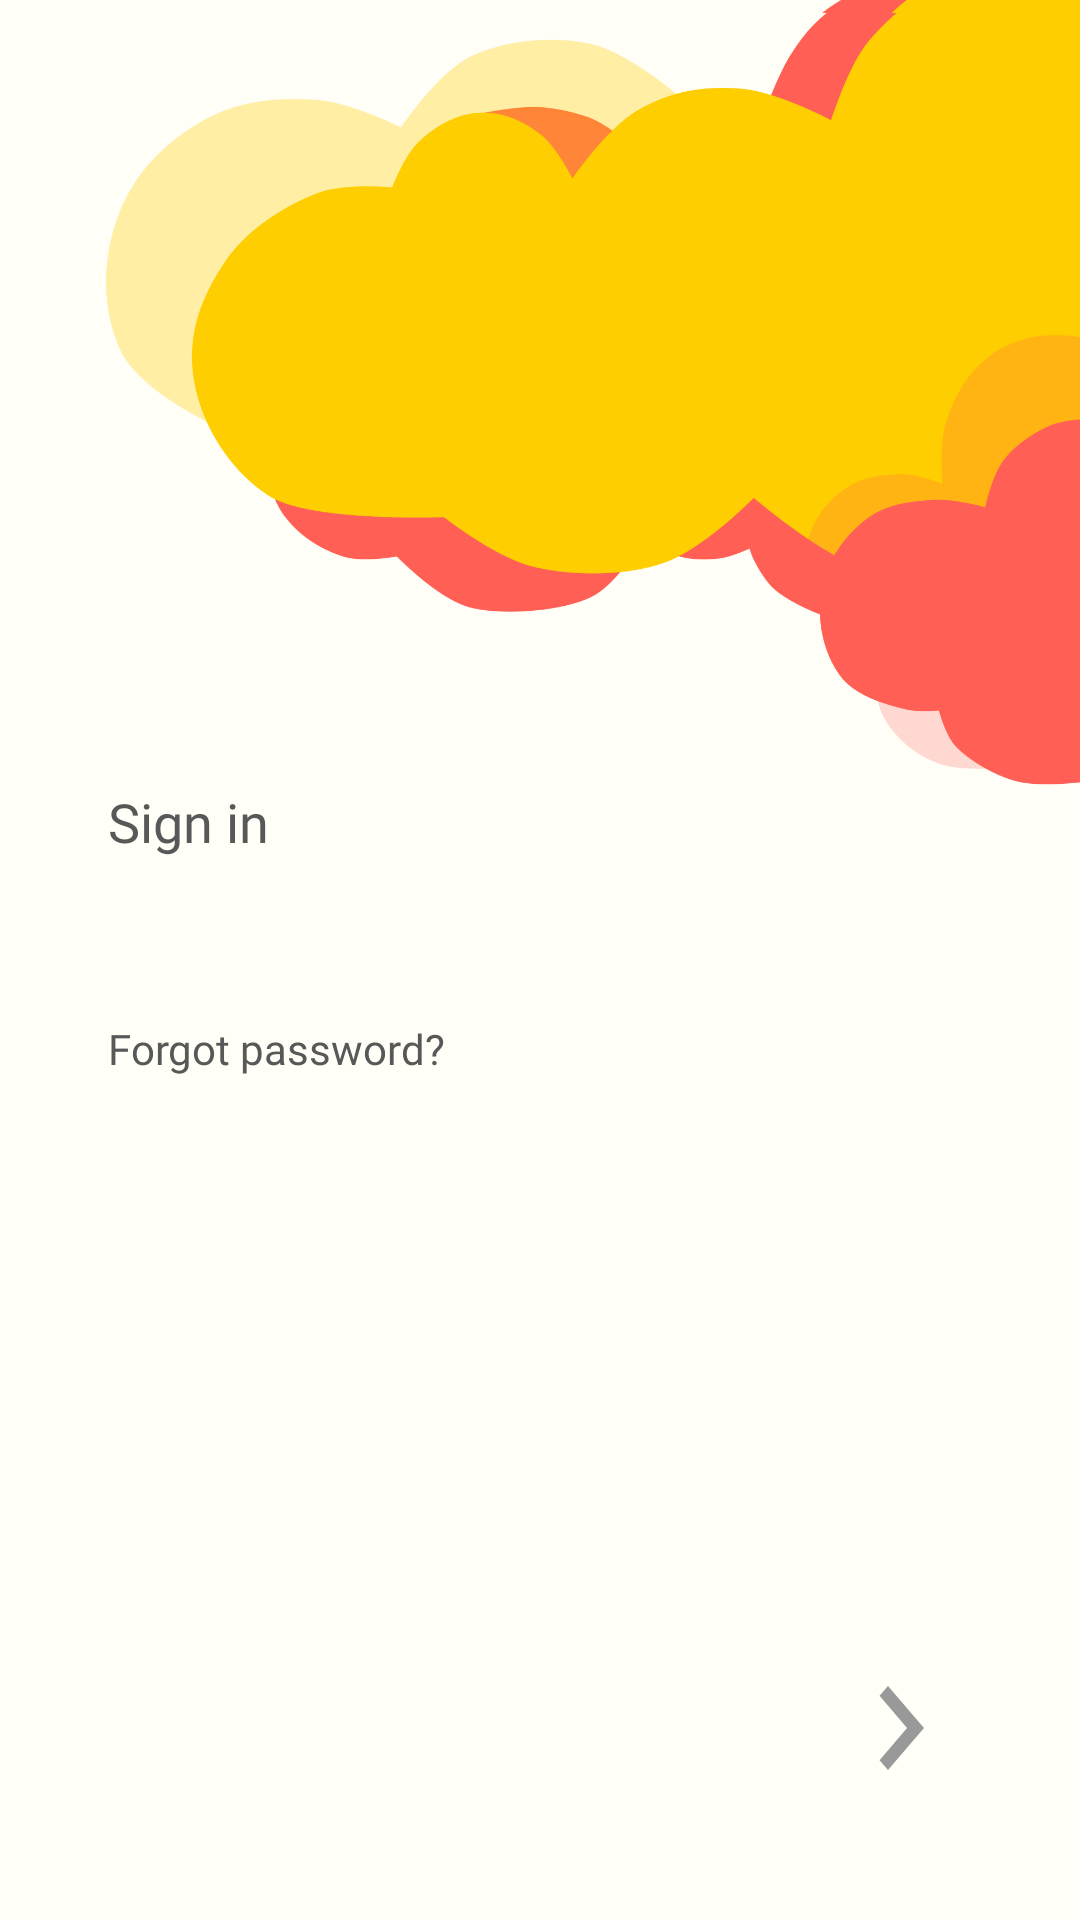

Icons on this 1080 × 1920 Android screen, each with its box as bbox(x1, y1, x2, y2):
navigate next: bbox(880, 1686, 924, 1770)
